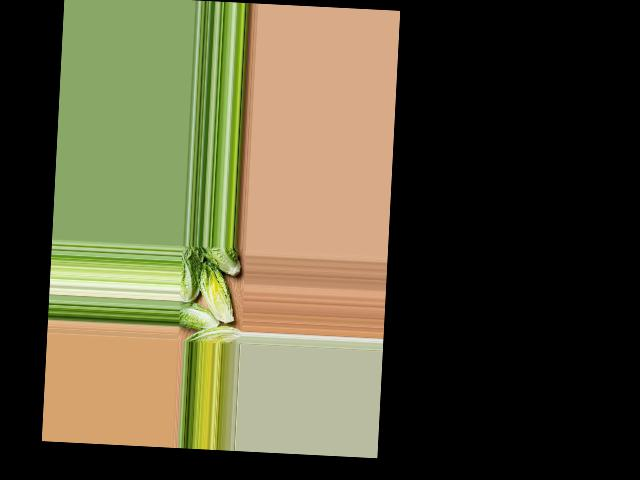lettuce: (185, 322, 241, 345)
